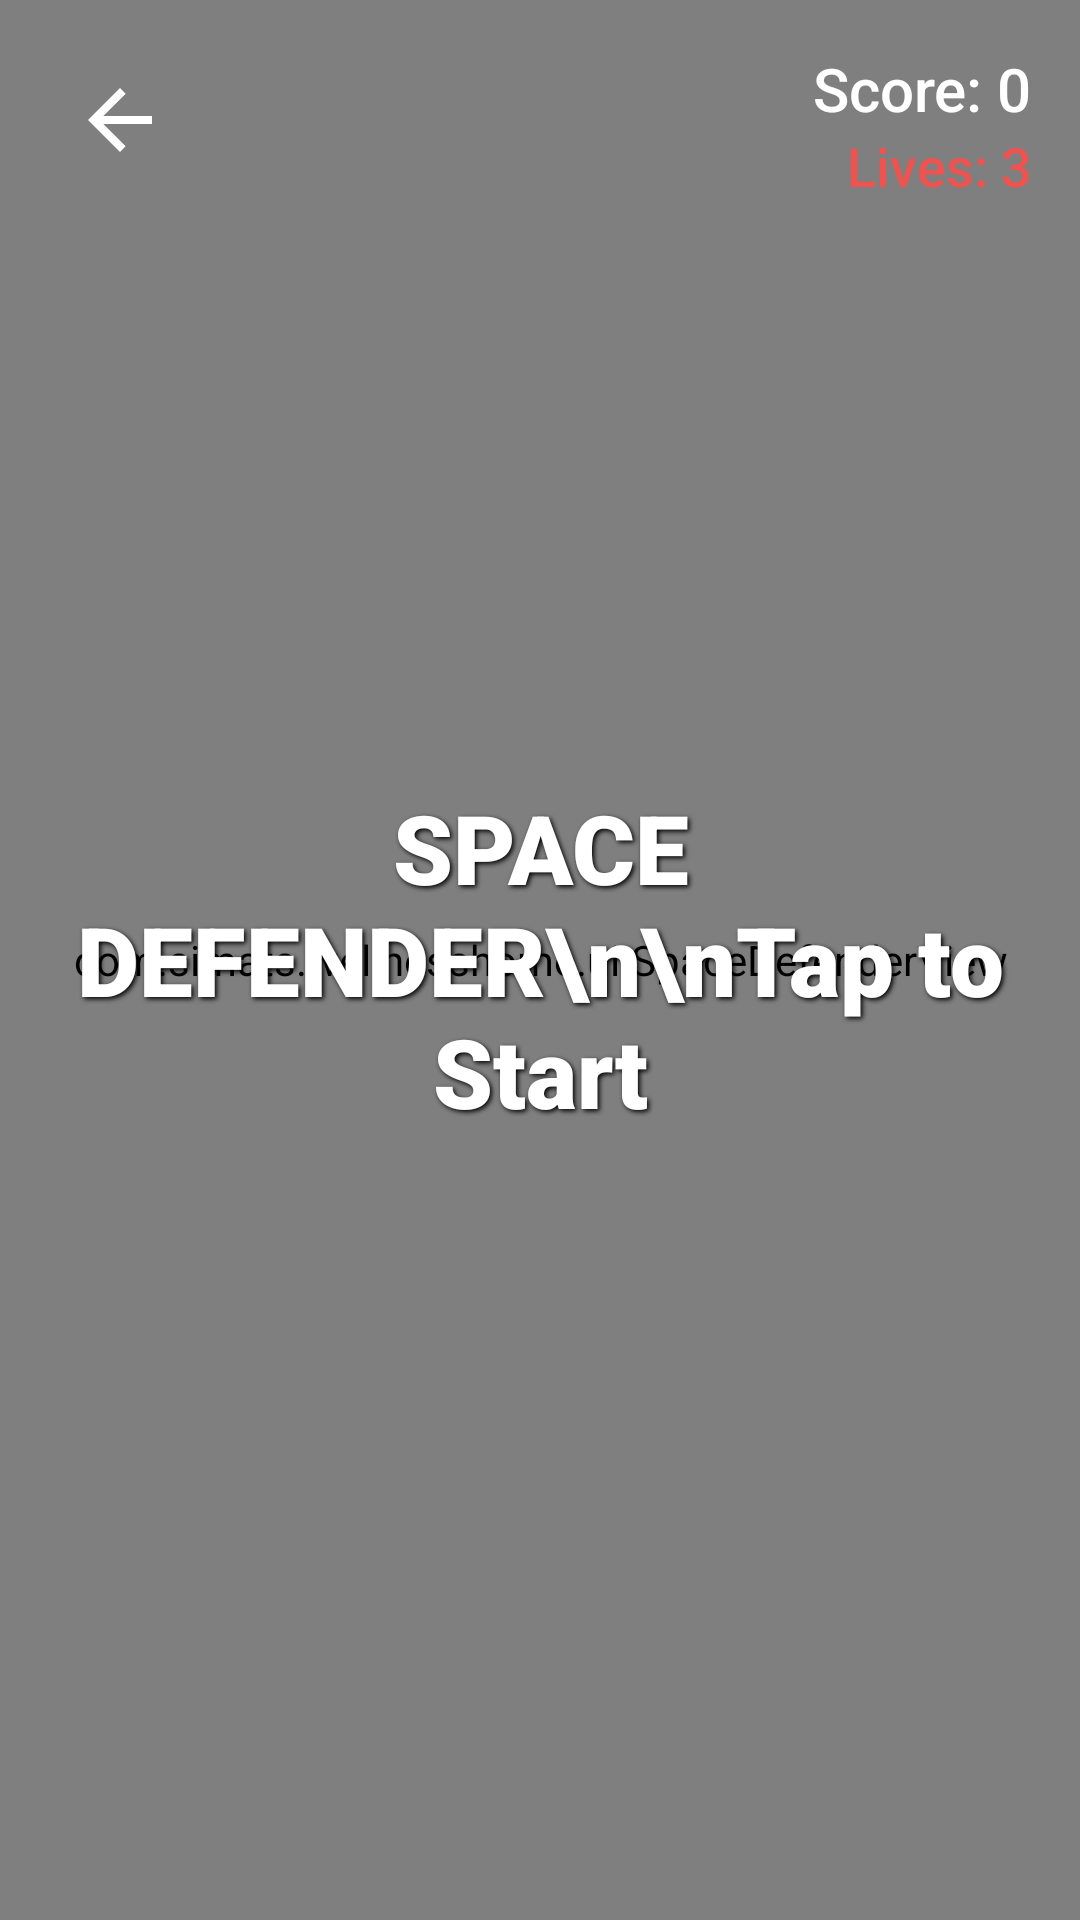

Screen size 1080px x 1920px. Icon name, then its center in pixels as [x,y]:
arrow back: [120,120]
